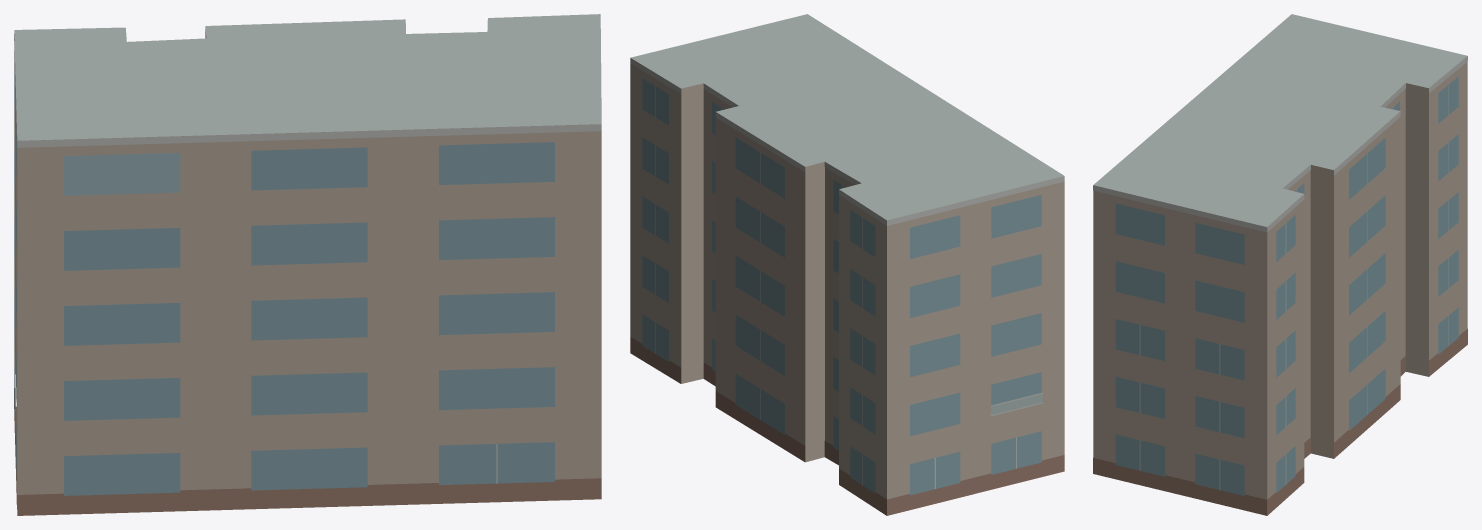
File: survey-upis-32885210.glb
3 views of the same model, side by side, from view 1: azimuth 30°, elevation 25°; view 2: azimuth 150°, elevation 25°; view 3: azimuth 270°, elevation 25° (orthographic). The views are drawn at different scales.
Visible parts, largest first — view 1: survey-upis-32885210.tmp; view 2: survey-upis-32885210.tmp; view 3: survey-upis-32885210.tmp.
Part boxes in pixels (x1,y1,x2,y2): survey-upis-32885210.tmp: [14, 14, 601, 515]; survey-upis-32885210.tmp: [630, 14, 1064, 515]; survey-upis-32885210.tmp: [1093, 14, 1467, 515].
Bounding box in the file's own units: 20.59 × 13 × 15.3.
